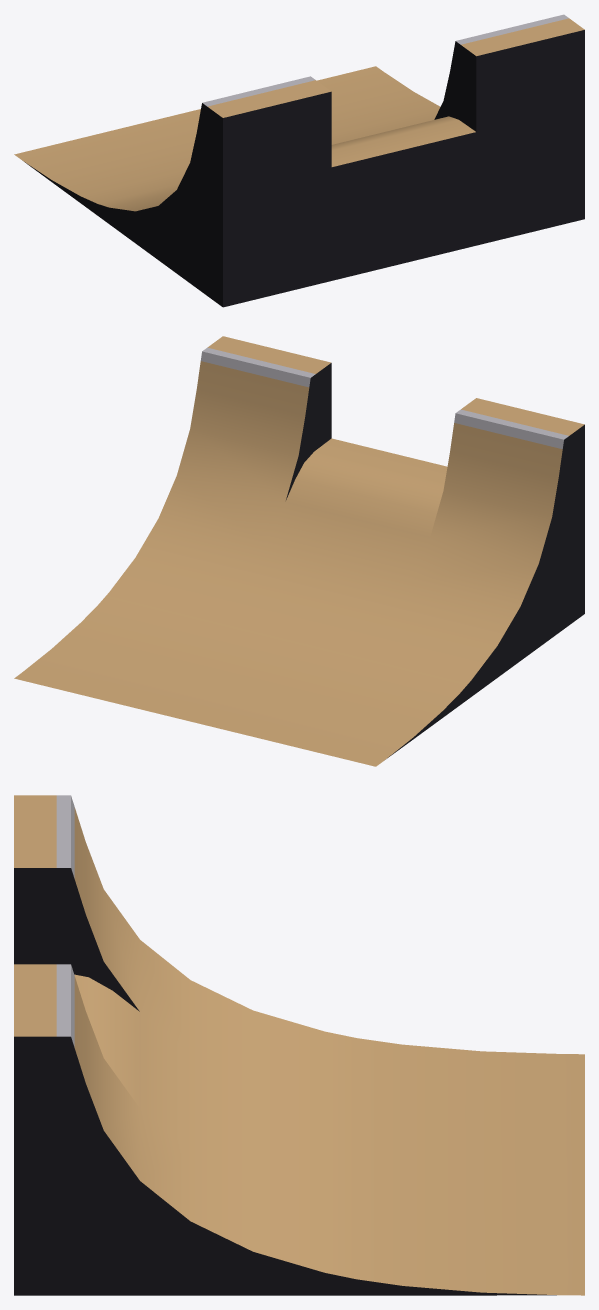
The model's file is Quater_SML_Gap.fbx.
3 views of the same model, one above another, from view 1: azimuth 30°, elevation 25°; view 2: azimuth 150°, elevation 25°; view 3: azimuth 270°, elevation 25° (orthographic). The views are drawn at different scales.
Parts seen in each view (by area): view 1: Quater_SML_Gap; view 2: Quater_SML_Gap; view 3: Quater_SML_Gap.
Part boxes in pixels (x1,y1,x2,y2): Quater_SML_Gap: (14, 14, 584, 307); Quater_SML_Gap: (14, 336, 584, 766); Quater_SML_Gap: (14, 795, 584, 1295).
Size of the model in its own units: 10 by 5 by 10.
